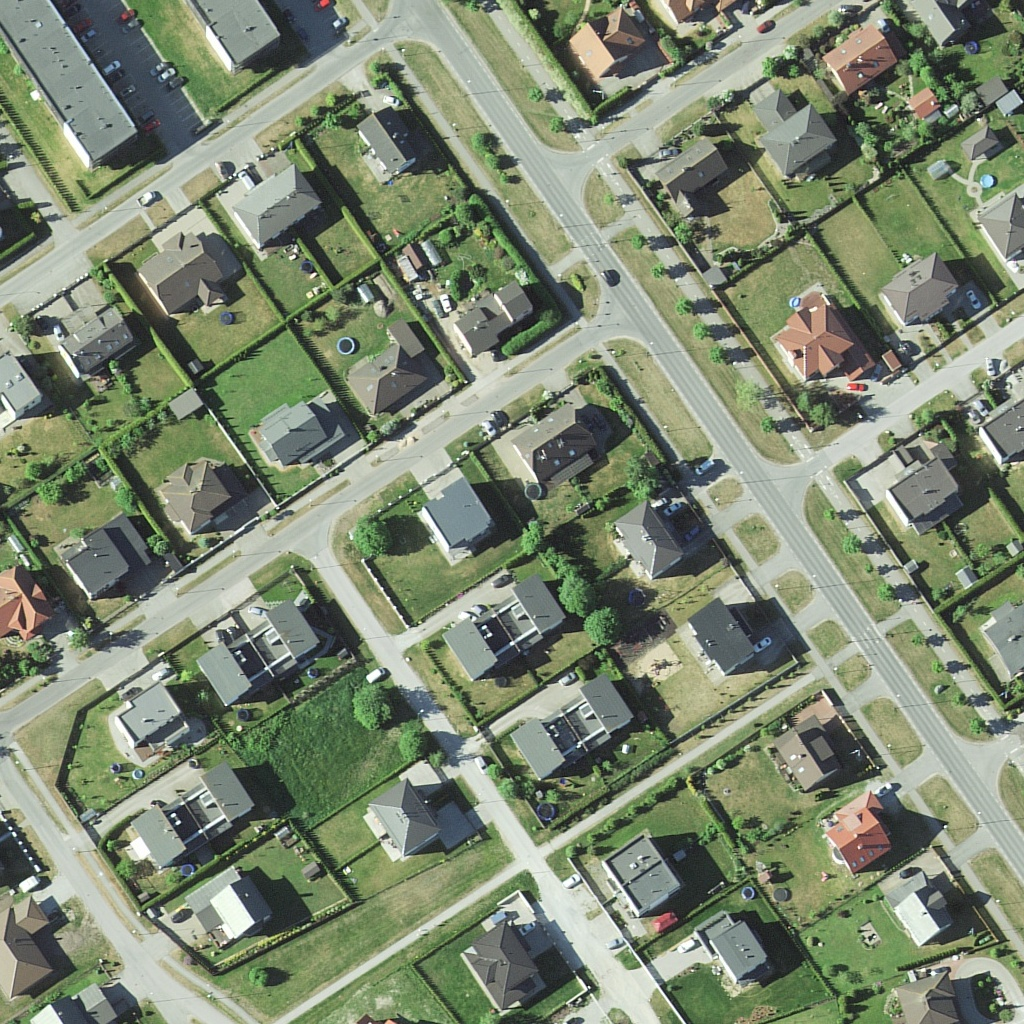building: (1, 1, 137, 171), (440, 572, 562, 689), (509, 677, 637, 785), (131, 761, 258, 868), (197, 610, 323, 699), (780, 293, 868, 386), (244, 396, 343, 477), (651, 133, 732, 226), (601, 822, 683, 913), (108, 676, 191, 765), (465, 913, 541, 1010), (68, 522, 151, 610), (132, 239, 228, 315), (236, 168, 324, 249), (509, 408, 597, 488), (755, 90, 835, 177), (815, 25, 909, 99), (189, 864, 280, 939), (416, 481, 497, 557), (568, 8, 649, 84), (684, 595, 763, 672), (771, 716, 845, 798), (194, 3, 281, 72), (57, 306, 137, 381), (884, 253, 960, 330), (454, 283, 536, 353), (1, 897, 56, 1001), (696, 906, 764, 990), (367, 782, 442, 856), (348, 343, 424, 415), (158, 459, 231, 533), (888, 866, 955, 938), (830, 798, 891, 876), (356, 103, 414, 179), (889, 970, 966, 1024), (887, 463, 954, 524), (621, 510, 681, 578), (982, 196, 1024, 253)
